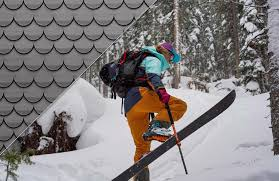skis: (111, 88, 238, 181)
